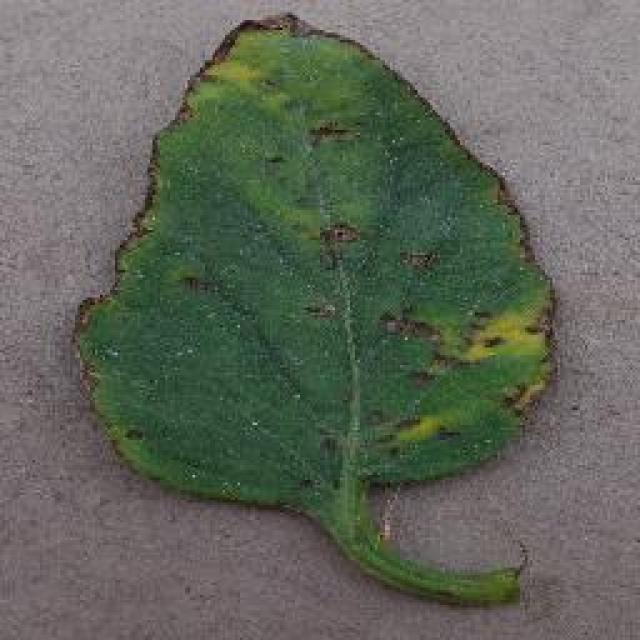Tomato___Bacterial_spot: (74, 16, 554, 604)
